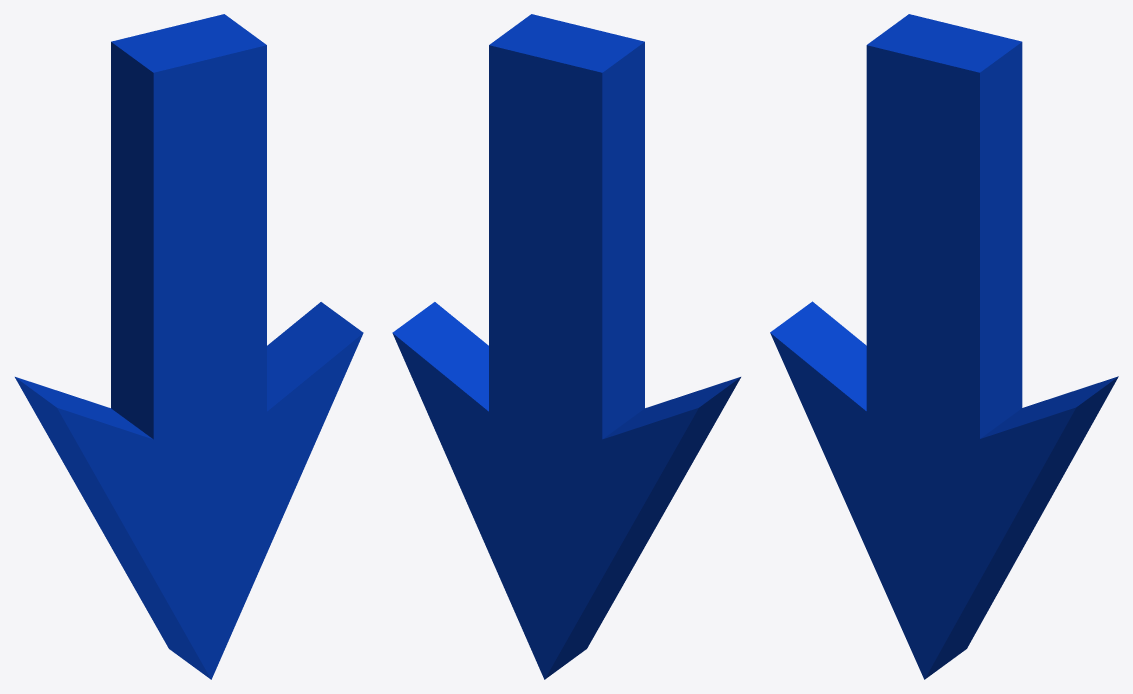
3 renders of one model, left to right at view 1: azimuth 30°, elevation 25°; view 2: azimuth 150°, elevation 25°; view 3: azimuth 330°, elevation 25°, orthographic.
Visible parts, largest first — view 1: SM_箭头; view 2: SM_箭头; view 3: SM_箭头.
Part boxes in pixels (x1,y1,x2,y2): SM_箭头: [15, 14, 363, 679]; SM_箭头: [392, 14, 740, 679]; SM_箭头: [770, 14, 1118, 679].
Size of the model in its own units: 10.38 by 20.1 by 2.5.
